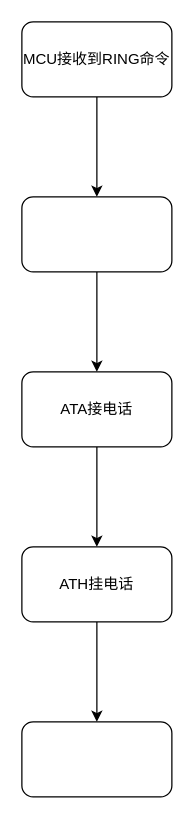
The diagram is 194 pixels wide and 819 high, and some of its shapes have lost their labels. Each missing label, with the box of its shape:
AT+CLCC 查询通信状态返回4: (21, 196, 172, 272)
对方挂断接收到NO CARRIER: (21, 721, 172, 797)
